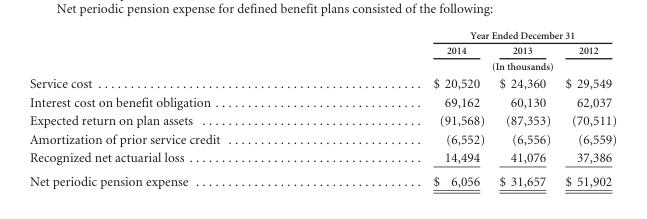table: (28, 29, 616, 188)
table column: (28, 29, 325, 188), (325, 29, 491, 188), (491, 29, 557, 188), (557, 29, 616, 188)
table column header: (28, 29, 616, 73)
table row: (28, 148, 616, 169), (28, 73, 616, 92), (28, 92, 616, 111), (28, 129, 616, 148), (28, 169, 616, 188), (28, 111, 616, 129), (28, 57, 616, 73), (28, 42, 616, 57), (28, 29, 616, 42)
table spanning cell: (325, 57, 616, 73), (325, 29, 616, 42)
